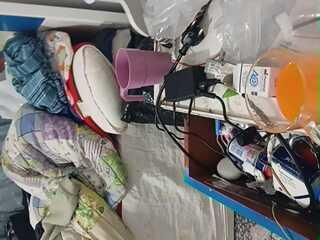cup: (128, 183, 255, 239), (143, 184, 255, 229), (184, 86, 255, 129), (203, 86, 253, 100)
